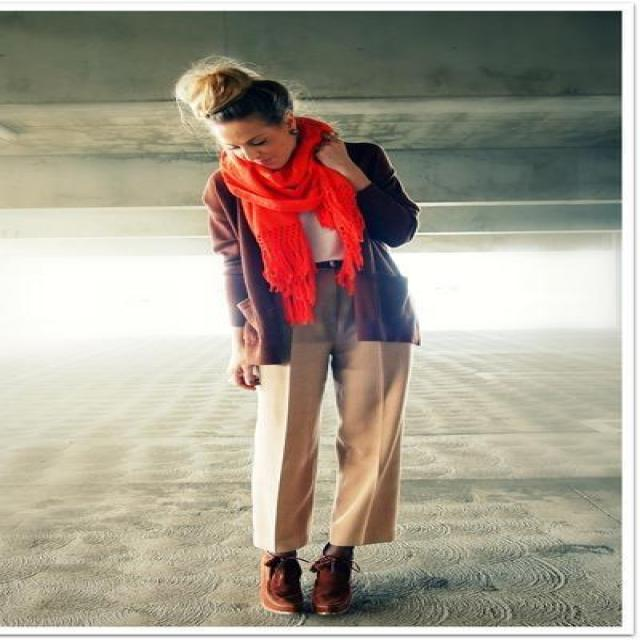jacket: (344, 142, 418, 242)
pants: (243, 308, 419, 555)
shirt: (211, 178, 411, 379)
shoe: (266, 545, 371, 620)
